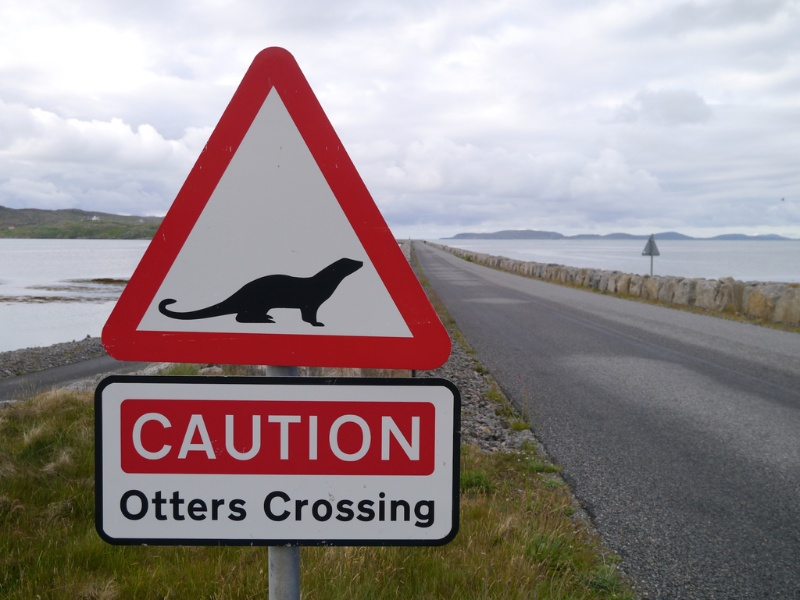animal_ahead: (92, 41, 479, 369)
warning: (84, 378, 467, 537)
